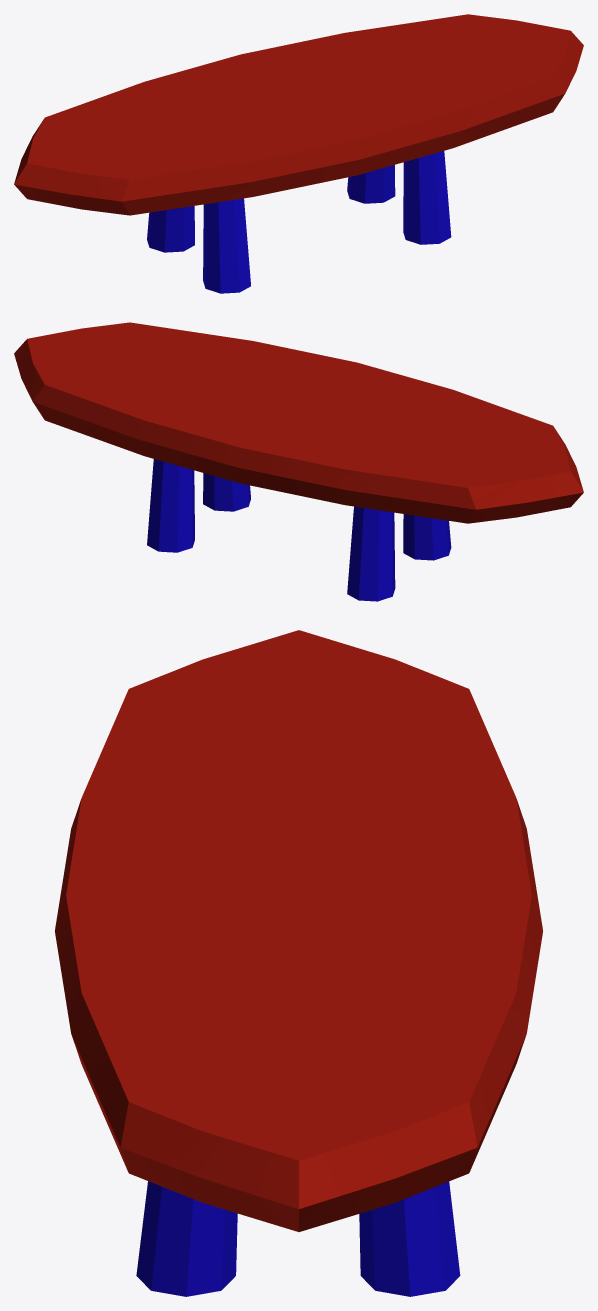
Rendered from P_TableBasse_Colored_Unbreakable.fbx.
3 renders of one model, top to bottom at view 1: azimuth 30°, elevation 25°; view 2: azimuth 150°, elevation 25°; view 3: azimuth 270°, elevation 25°, orthographic. The views are drawn at different scales.
Visible parts, largest first — view 1: P_TableBasse_Colored_Unbreakable; view 2: P_TableBasse_Colored_Unbreakable; view 3: P_TableBasse_Colored_Unbreakable.
Part boxes in pixels (<box>): P_TableBasse_Colored_Unbreakable: <box>14,14,583,293</box>; P_TableBasse_Colored_Unbreakable: <box>14,322,583,601</box>; P_TableBasse_Colored_Unbreakable: <box>55,630,542,1296</box>.
Size of the model in its own units: 4.28 by 1.01 by 1.59.
